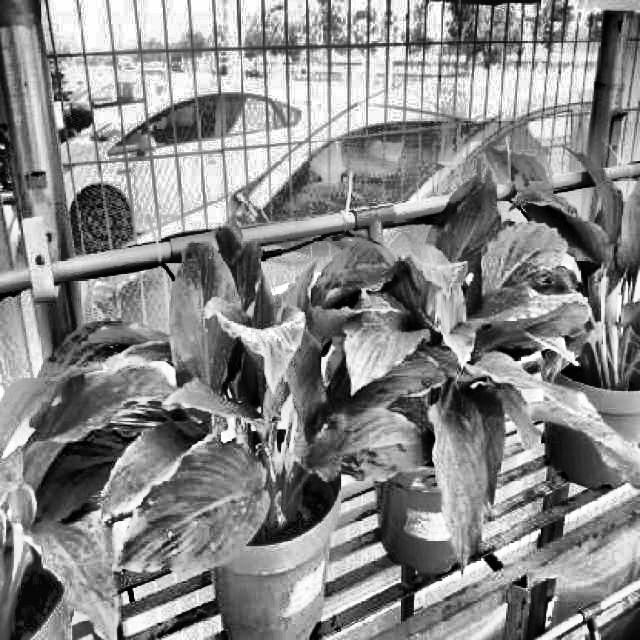plants: (94, 226, 414, 563), (338, 155, 579, 568), (0, 316, 234, 638), (460, 128, 638, 414)
